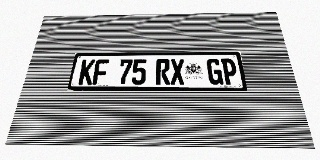5: (131, 59, 147, 85)
7: (117, 59, 133, 85)
F: (92, 59, 109, 85)
G: (206, 58, 223, 85)
K: (78, 59, 95, 85)
P: (221, 58, 239, 85)
R: (156, 59, 170, 85)
X: (170, 59, 185, 85)
